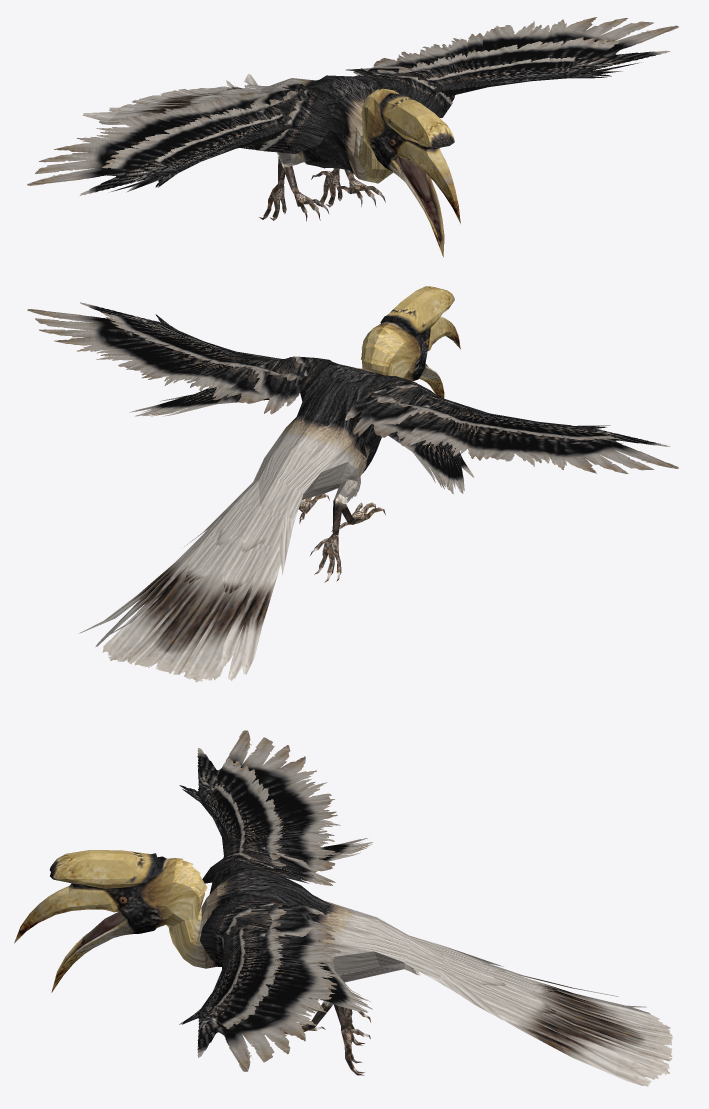
Rendered from Re_Outbreak_file_ZooBird.obj.
The picture shows the model from 3 angles, top to bottom: view 1: azimuth 30°, elevation 25°; view 2: azimuth 150°, elevation 25°; view 3: azimuth 270°, elevation 25°; orthographic projection. The views are drawn at different scales.
Parts seen in each view (by area): view 1: None_None; view 2: None_None; view 3: None_None.
Part boxes in pixels (box(x1,y1,x2,y2)): None_None: box(27, 17, 678, 257); None_None: box(27, 286, 678, 682); None_None: box(14, 730, 672, 1086).
Size of the model in its own units: 1.24 by 0.3352 by 1.01.
Materials: 1 (1 with a texture image).
